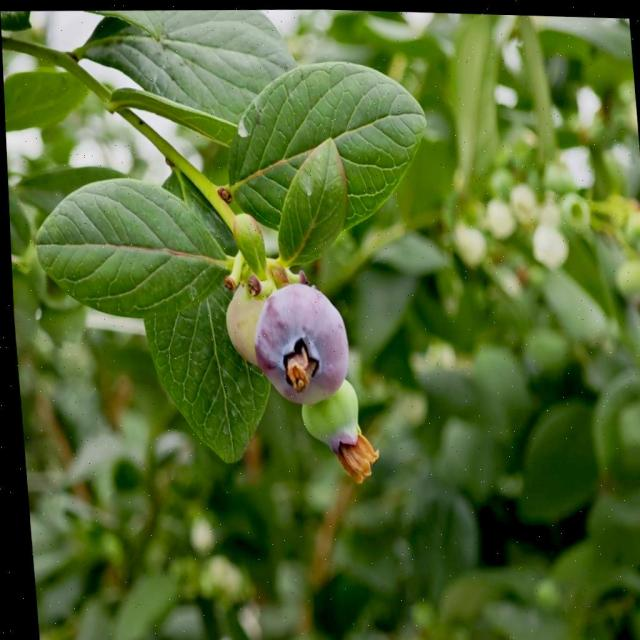Semi-RipeBlueBerry: (244, 276, 350, 406)
